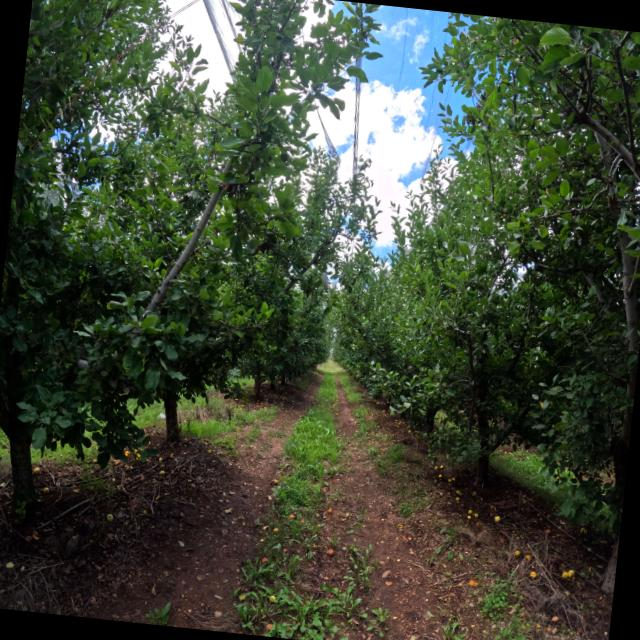-FireBlight-: (223, 183, 242, 197)
